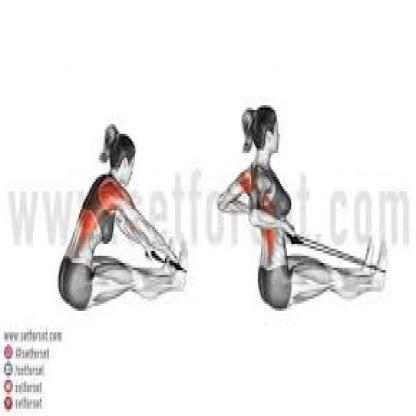Seated Cable Rows: (220, 99, 393, 327), (43, 123, 200, 318)
